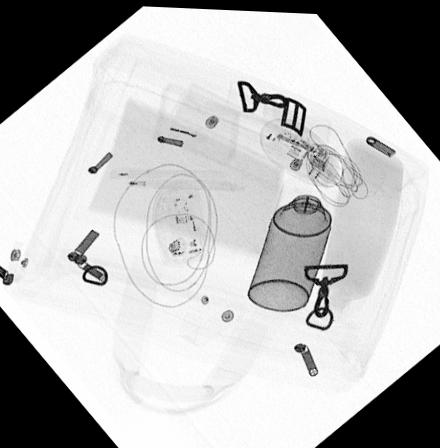Sprayer: (246, 179, 340, 310)
